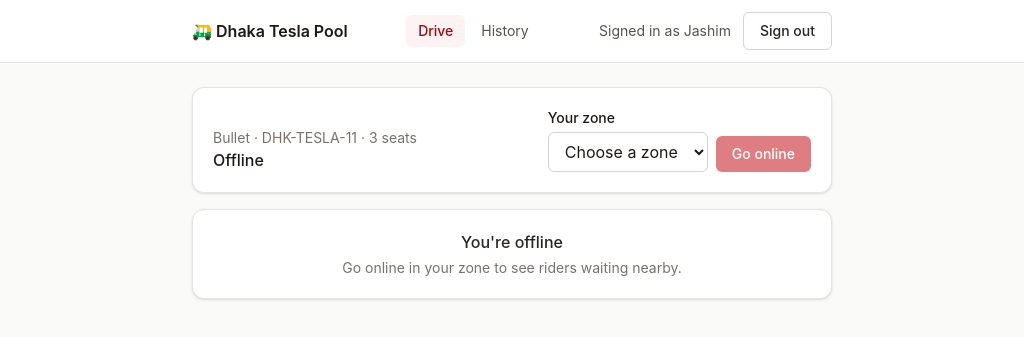
Jashim's driver screen › goes online in Banani and shows that nobody is waiting yet
Expected: the text "You're offline" is shown, [461,232,563,252]
Select "Banani" in the dropdown labelled "Your zone": (628, 152) [548,132,708,172]
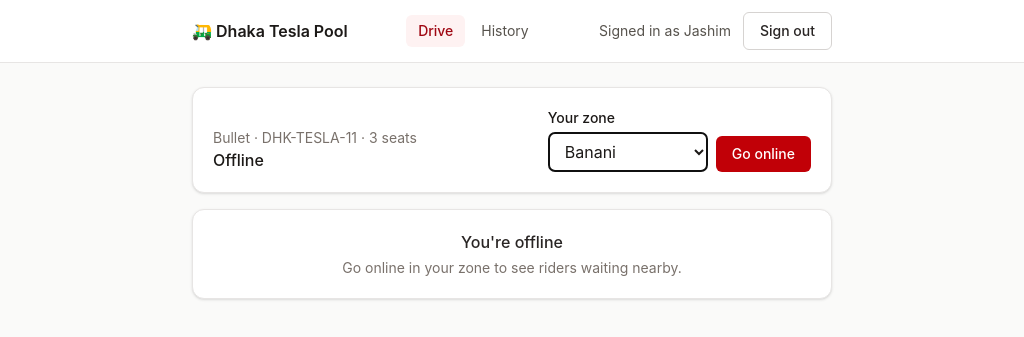
Click the button "Go online": (763, 154) [716,136,811,172]
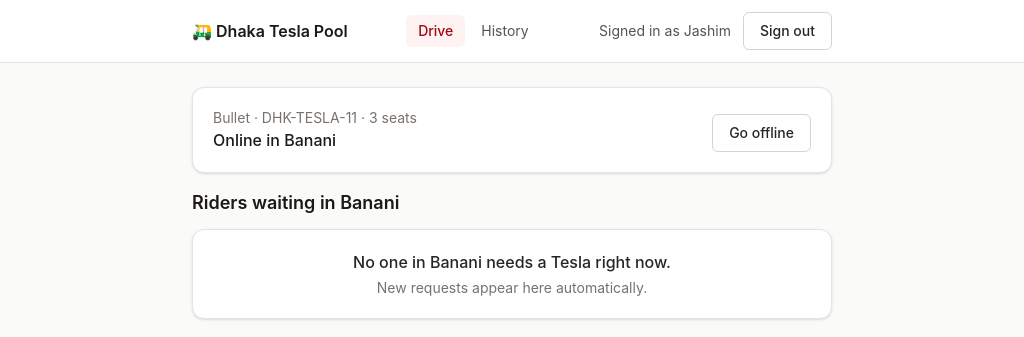
Result: the text "Online in Banani" is shown at [213,130,336,150]
Result: the text "No one in Banani needs a Tesla right now." is shown at [353,252,671,272]
